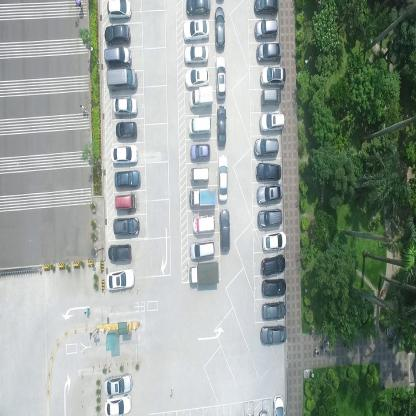car: (190, 258, 219, 286), (107, 68, 137, 93), (106, 266, 136, 291), (104, 370, 133, 395), (182, 18, 210, 42), (257, 204, 283, 229), (256, 180, 283, 204), (111, 142, 139, 165), (114, 167, 142, 189), (259, 323, 287, 345), (104, 394, 132, 416), (261, 252, 285, 277), (104, 23, 130, 46), (255, 160, 282, 182), (113, 215, 140, 237), (189, 186, 216, 208), (261, 229, 287, 251), (258, 111, 284, 133), (104, 47, 131, 68), (189, 85, 213, 108), (113, 95, 139, 116), (255, 42, 281, 63), (184, 44, 208, 66), (190, 237, 214, 259), (218, 208, 230, 252), (218, 154, 229, 202), (184, 67, 209, 88), (187, 115, 212, 136), (261, 299, 286, 320), (259, 67, 286, 86), (254, 135, 278, 156), (192, 212, 216, 233), (254, 20, 278, 41), (108, 0, 132, 21), (214, 5, 225, 50), (215, 55, 226, 100), (107, 243, 132, 262), (116, 120, 139, 140), (185, 0, 211, 17), (115, 192, 137, 212), (262, 278, 286, 296), (254, 0, 278, 17), (260, 88, 280, 108), (191, 142, 211, 161), (217, 104, 226, 146), (190, 166, 210, 183), (272, 394, 285, 415)
